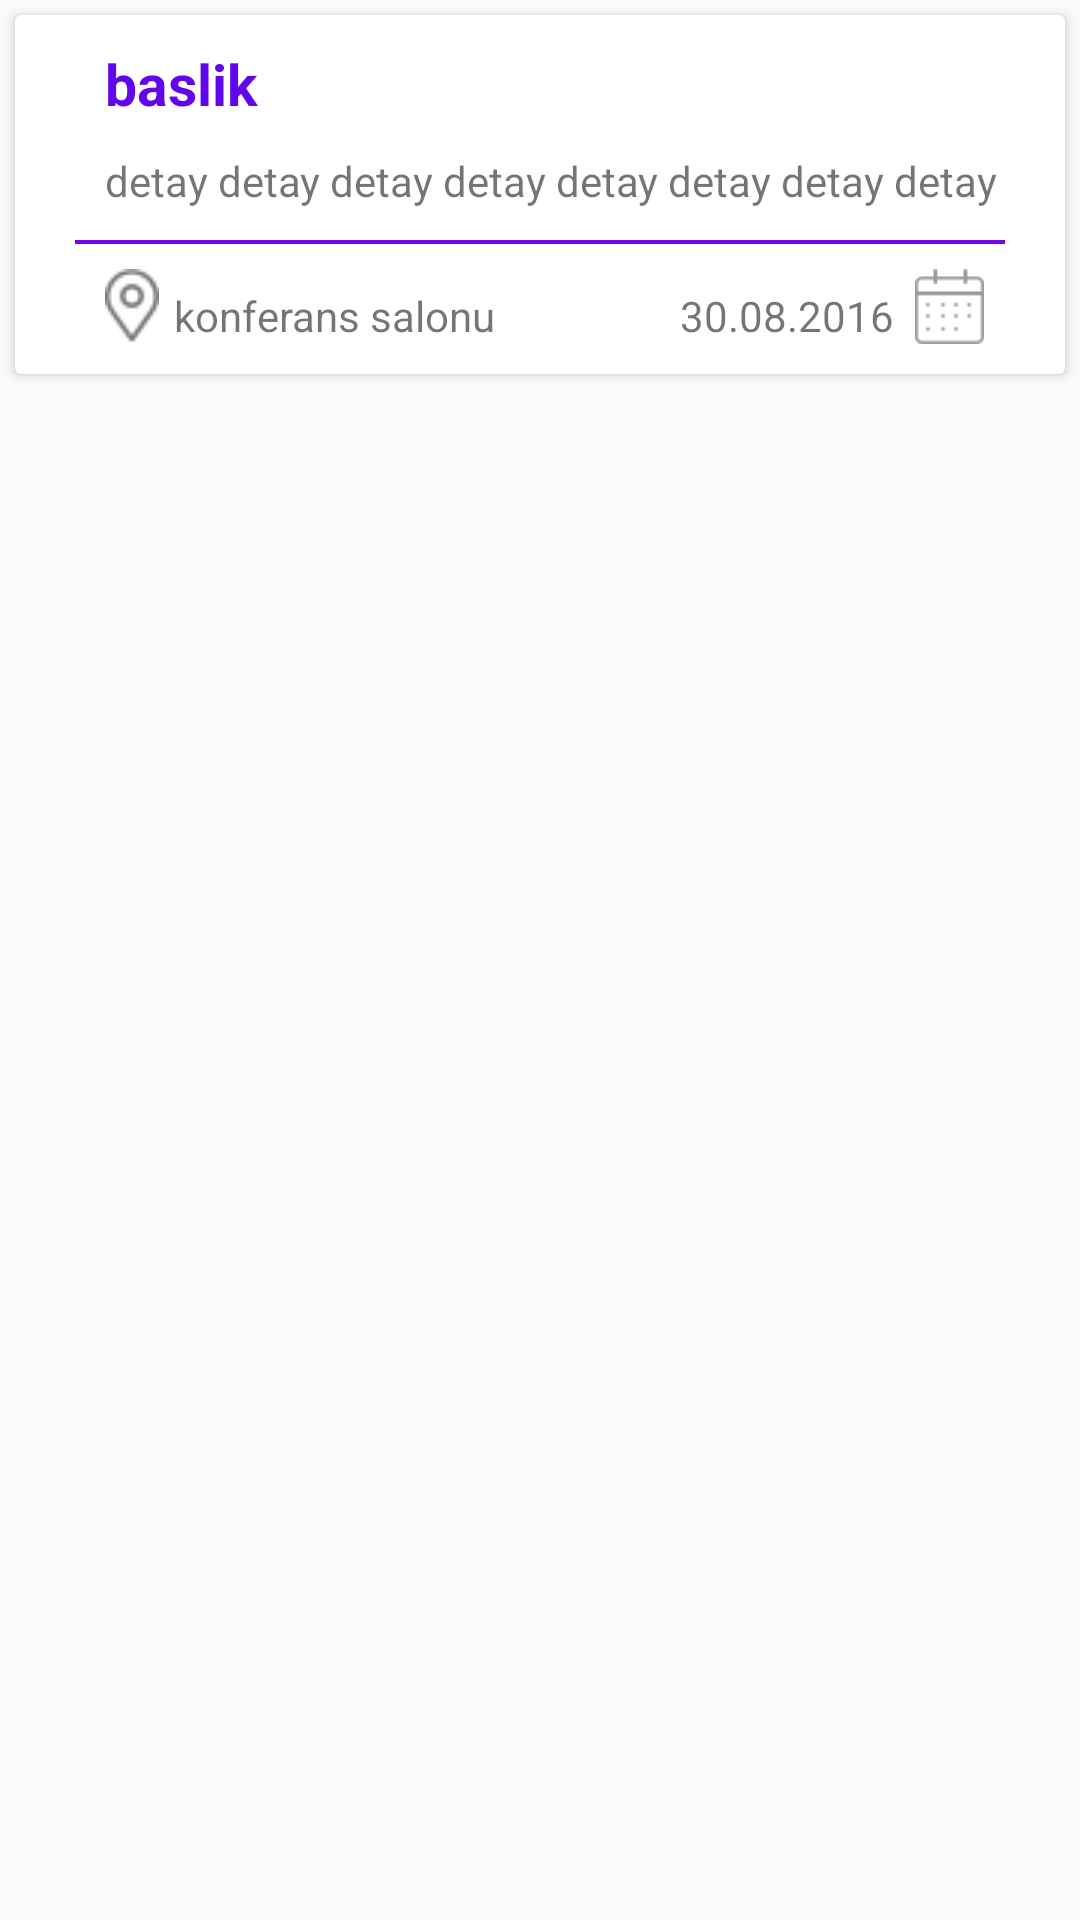

Icon bounding boxes for this 1080px x 1920px phone screenshot, format (x1, y1, x2, y2):
tarih: (915, 269, 984, 344)
yer: (105, 269, 159, 342)
